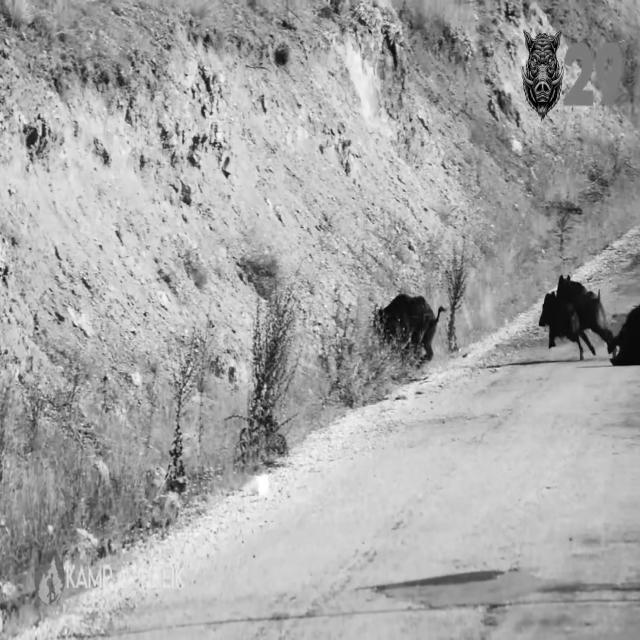boar: (539, 275, 615, 359), (374, 294, 445, 359)
